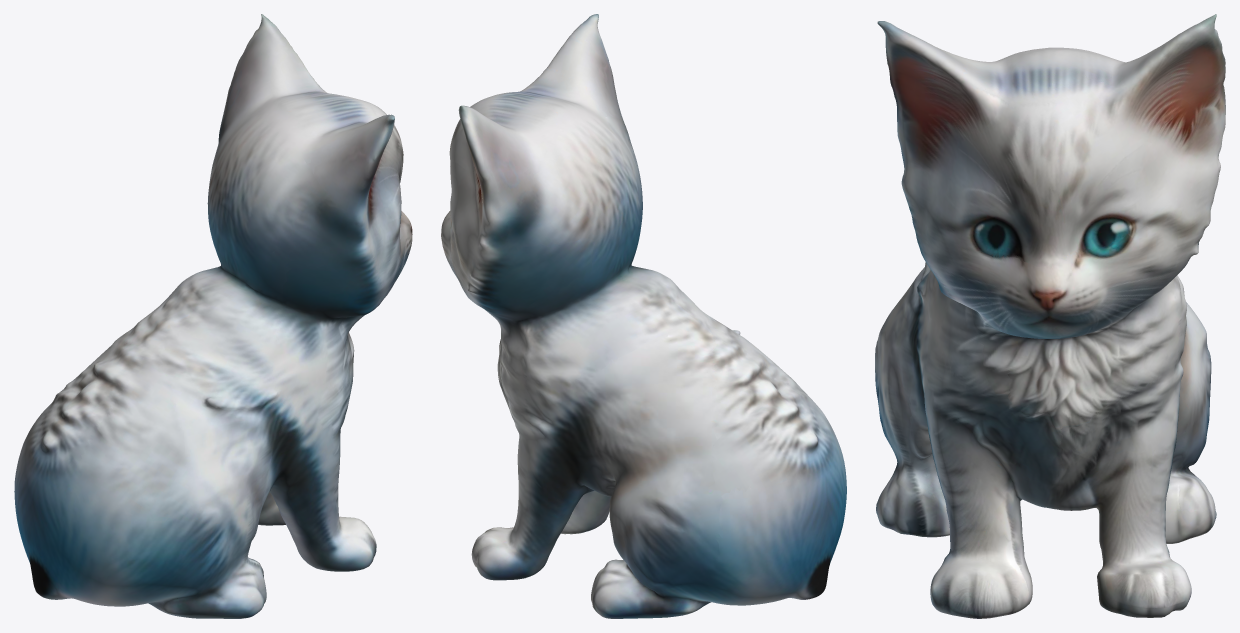
The model's file is 1c11f32d-4d30-4946-a077-f4ecaba14f3c.glb.
The picture shows the model from 3 angles, left to right: view 1: azimuth 30°, elevation 25°; view 2: azimuth 150°, elevation 25°; view 3: azimuth 270°, elevation 25°; orthographic projection. The views are drawn at different scales.
Parts seen in each view (by area): view 1: tripo_node_1c11f32d-4d30-4946-a077-f4ecaba14f3c; view 2: tripo_node_1c11f32d-4d30-4946-a077-f4ecaba14f3c; view 3: tripo_node_1c11f32d-4d30-4946-a077-f4ecaba14f3c.
Boxes of the visible parts, bbox=[...] form: tripo_node_1c11f32d-4d30-4946-a077-f4ecaba14f3c: bbox=[14, 14, 412, 618]; tripo_node_1c11f32d-4d30-4946-a077-f4ecaba14f3c: bbox=[441, 14, 846, 618]; tripo_node_1c11f32d-4d30-4946-a077-f4ecaba14f3c: bbox=[875, 14, 1225, 618].
Bounding box in the file's own units: 0.6404 × 0.7723 × 0.4055.
Materials: 1 (1 with a texture image).
